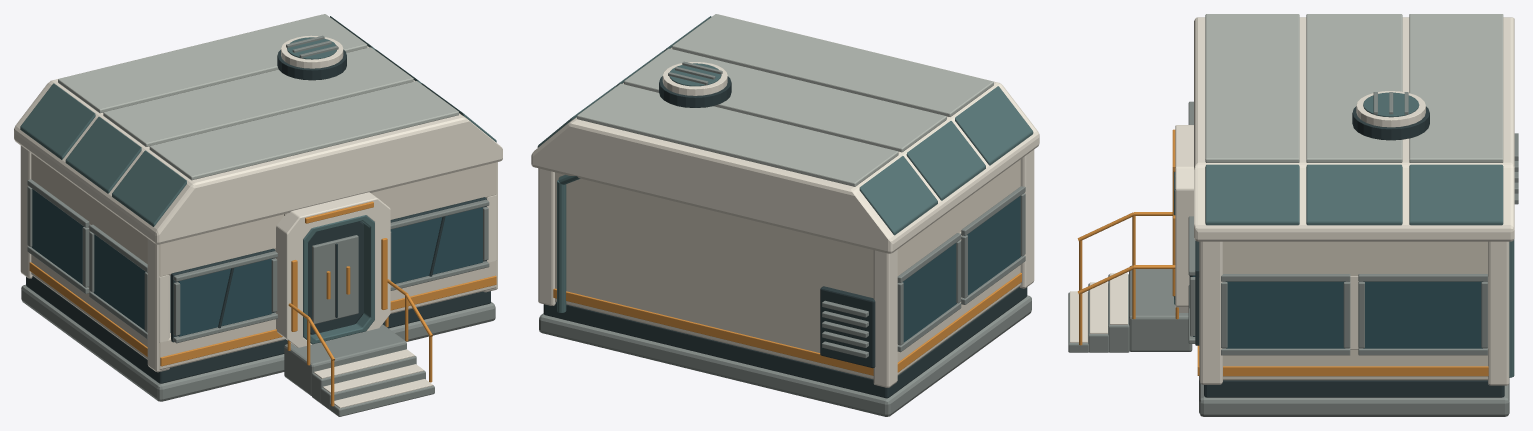
The model's file is habitat_01.glb.
The picture shows the model from 3 angles, left to right: view 1: azimuth 30°, elevation 25°; view 2: azimuth 150°, elevation 25°; view 3: azimuth 270°, elevation 25°; orthographic projection. The views are drawn at different scales.
Parts seen in each view (by area): view 1: habitat_01; view 2: habitat_01; view 3: habitat_01.
Boxes of the visible parts, <box> form: habitat_01: <box>14,14,502,416</box>; habitat_01: <box>531,14,1039,416</box>; habitat_01: <box>1068,14,1518,416</box>.
Bounding box in the file's own units: 6.68 × 4.35 × 6.74.
